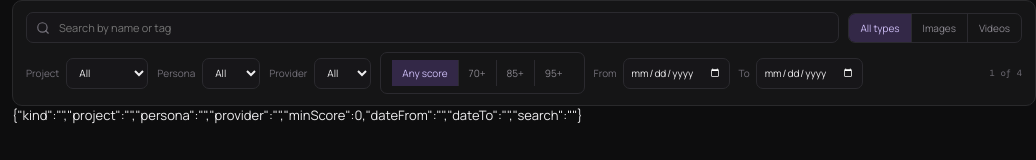
Test: AssetFilterBar › shows Clear only when something is active, and resets everything with it
The width and height of the screenshot is (1036, 160).
Expected: the button "Clear" is not shown
Type "neon" into the field labelled "Search by name or tag".
click(443, 28); type("neon")  # box [57,19,829,36]
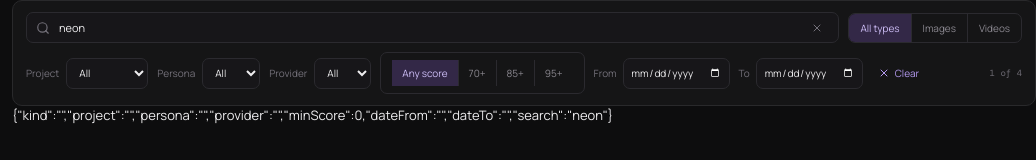
Select "Brobond" in the dropdown named "Filter by project" at (107, 73), box [66,58,148,88]
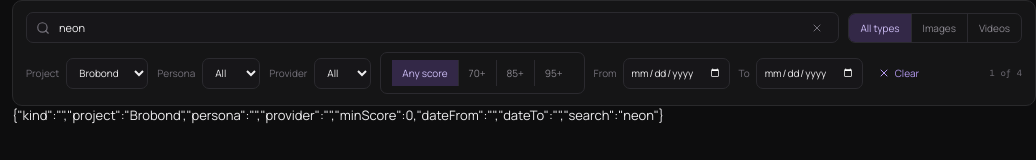
Click the button "Clear".
click(898, 73)  # box [872,65,925,81]
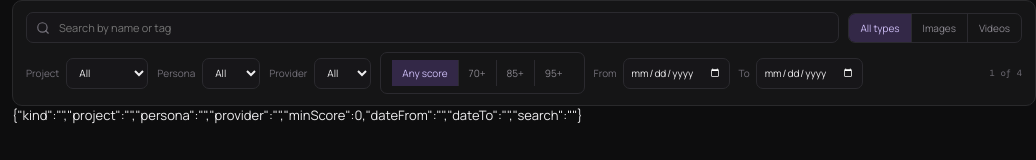
Now the button "Clear" is gone
